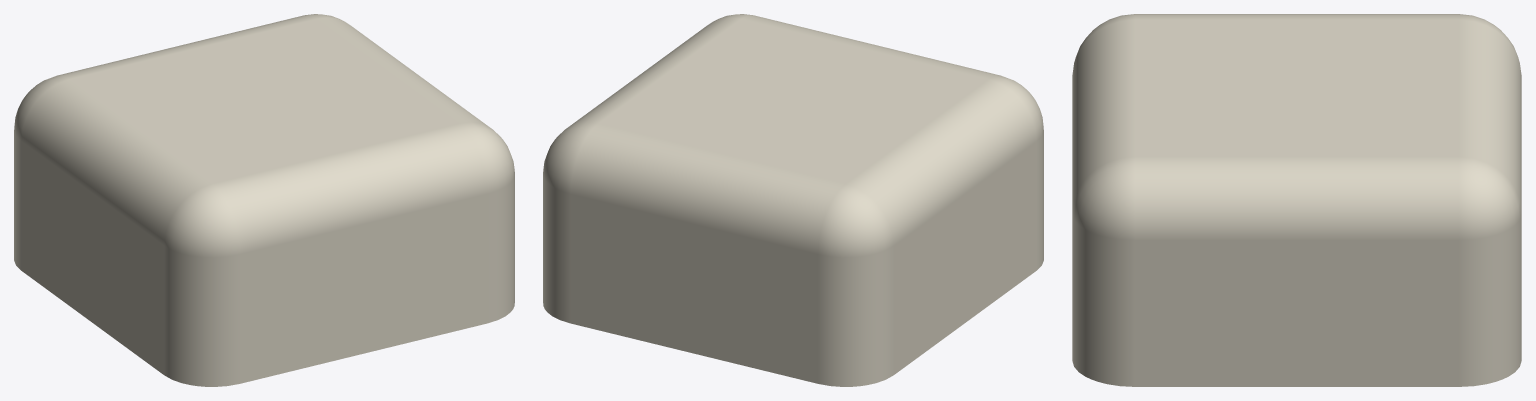
File: Rounded_Beveled_Cube_TopHalf_Low.obj
3 views of the same model, side by side, from view 1: azimuth 30°, elevation 25°; view 2: azimuth 150°, elevation 25°; view 3: azimuth 270°, elevation 25° (orthographic). The views are drawn at different scales.
Parts seen in each view (by area): view 1: Rounded_Beveled_Cube_TopHalf_Low; view 2: Rounded_Beveled_Cube_TopHalf_Low; view 3: Rounded_Beveled_Cube_TopHalf_Low.
Boxes of the visible parts, left/top/right/bottom form: Rounded_Beveled_Cube_TopHalf_Low: left=14, top=14, right=514, bottom=386; Rounded_Beveled_Cube_TopHalf_Low: left=543, top=14, right=1043, bottom=386; Rounded_Beveled_Cube_TopHalf_Low: left=1072, top=14, right=1521, bottom=386.
Size of the model in its own units: 1 by 0.5 by 1.
